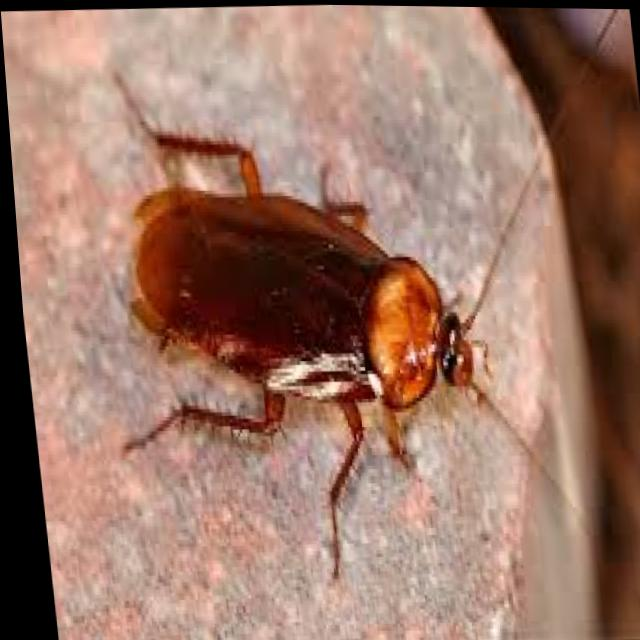Cockroach: (65, 1, 640, 599)
